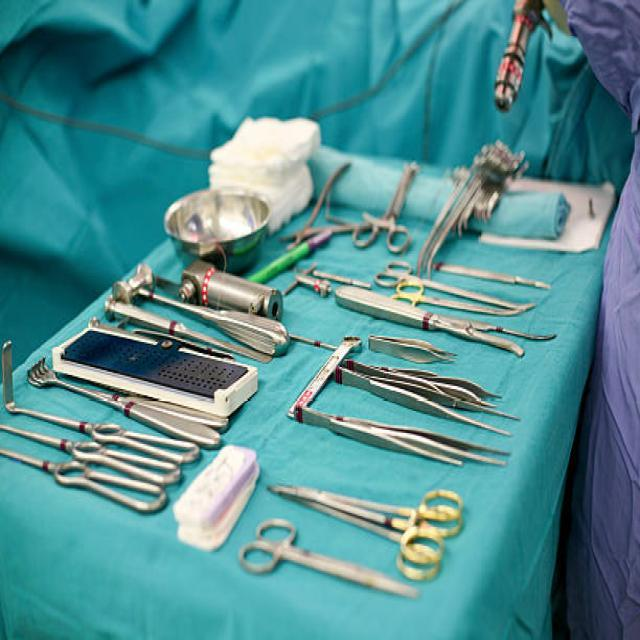tools_table: (1, 112, 618, 640)
